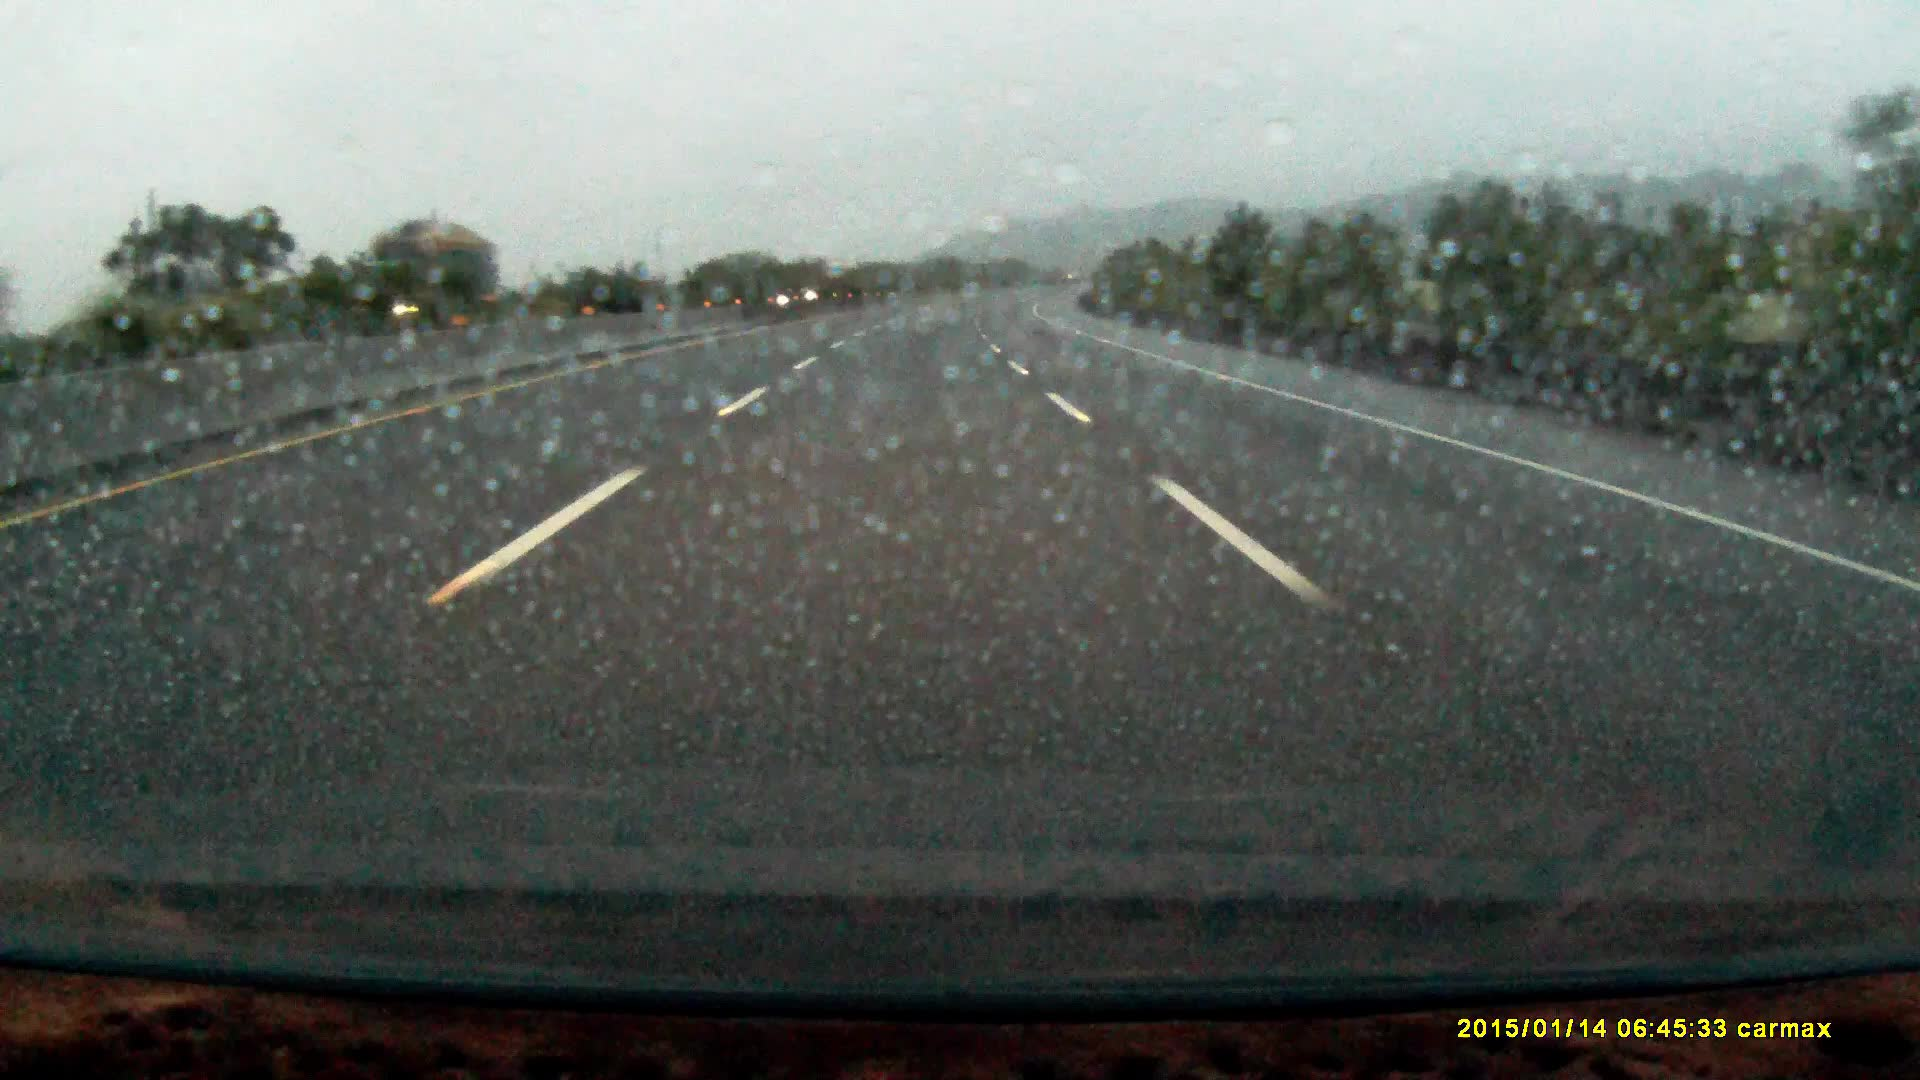vehicle: (360, 219, 497, 328)
